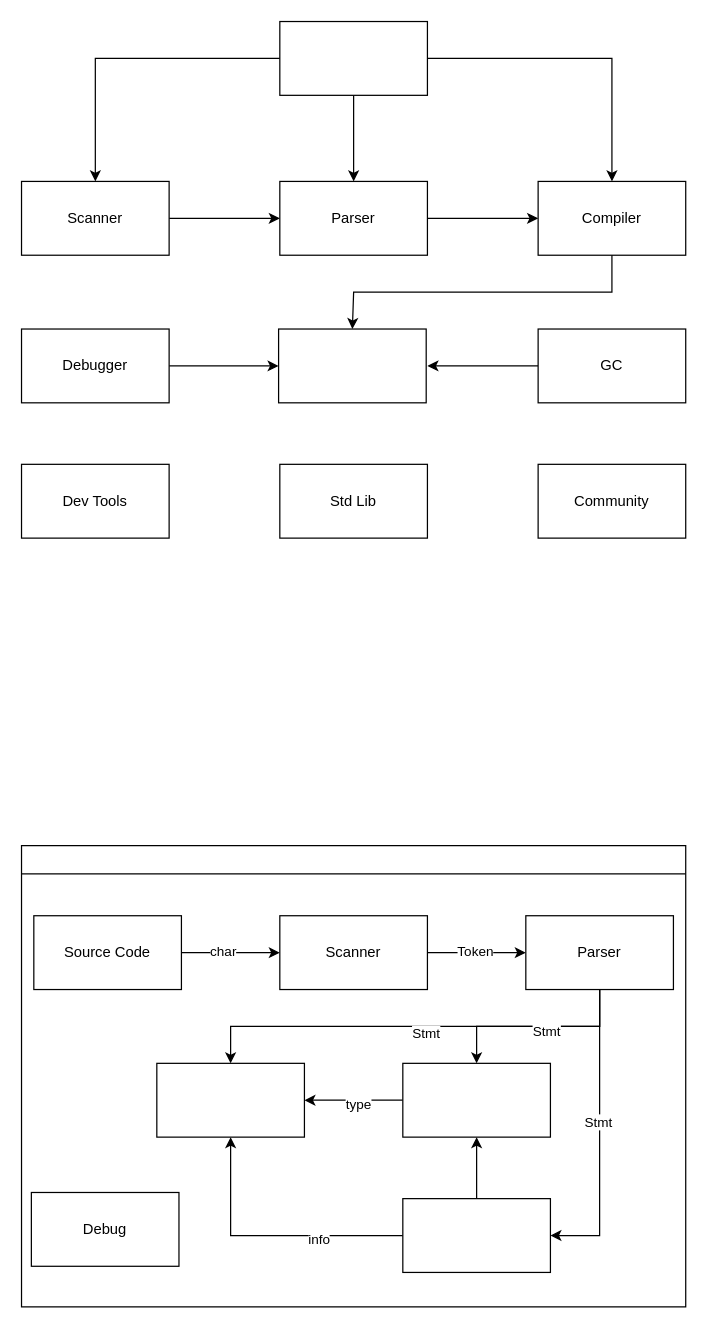
Some shapes in this 707 by 1328 pixel diagram are drawn without their labels. Here are the shapes that lost their labels. From the top down, the box of each, then its label:
(279, 20, 427, 95): Docs
(277, 328, 426, 403): BVM
(20, 844, 686, 1307): Rust
(156, 1062, 304, 1137): Interpreter
(402, 1062, 550, 1137): TypeInferrer
(402, 1197, 550, 1272): Resolver
